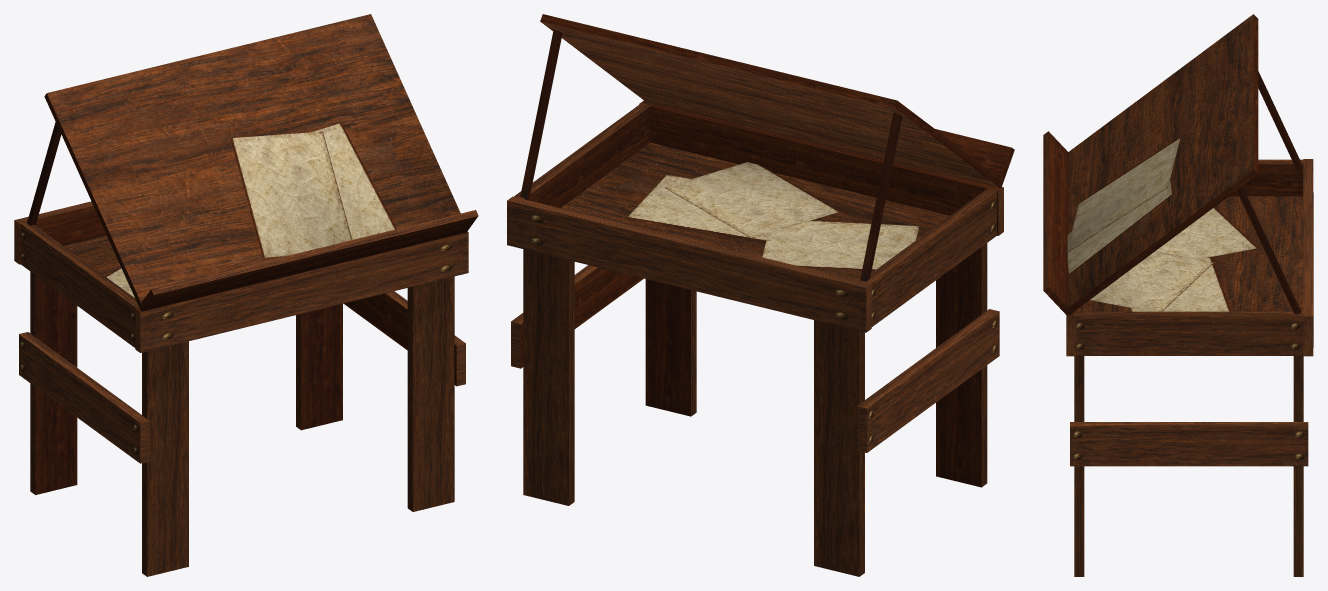
File: mm9_deco_desk03b.glb
The picture shows the model from 3 angles, left to right: view 1: azimuth 30°, elevation 25°; view 2: azimuth 150°, elevation 25°; view 3: azimuth 270°, elevation 25°; orthographic projection. The views are drawn at different scales.
Visible parts, largest first — view 1: Desk03b; view 2: Desk03b; view 3: Desk03b.
Part boxes in pixels (bbox=[...]): Desk03b: bbox=[14, 14, 478, 576]; Desk03b: bbox=[507, 14, 1014, 576]; Desk03b: bbox=[1043, 14, 1313, 576].
Bounding box in the file's own units: 1.6 × 1.95 × 1.16.
Materials: 2 (2 with a texture image).
